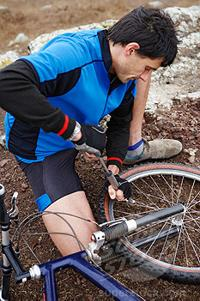person: (1, 6, 183, 260)
